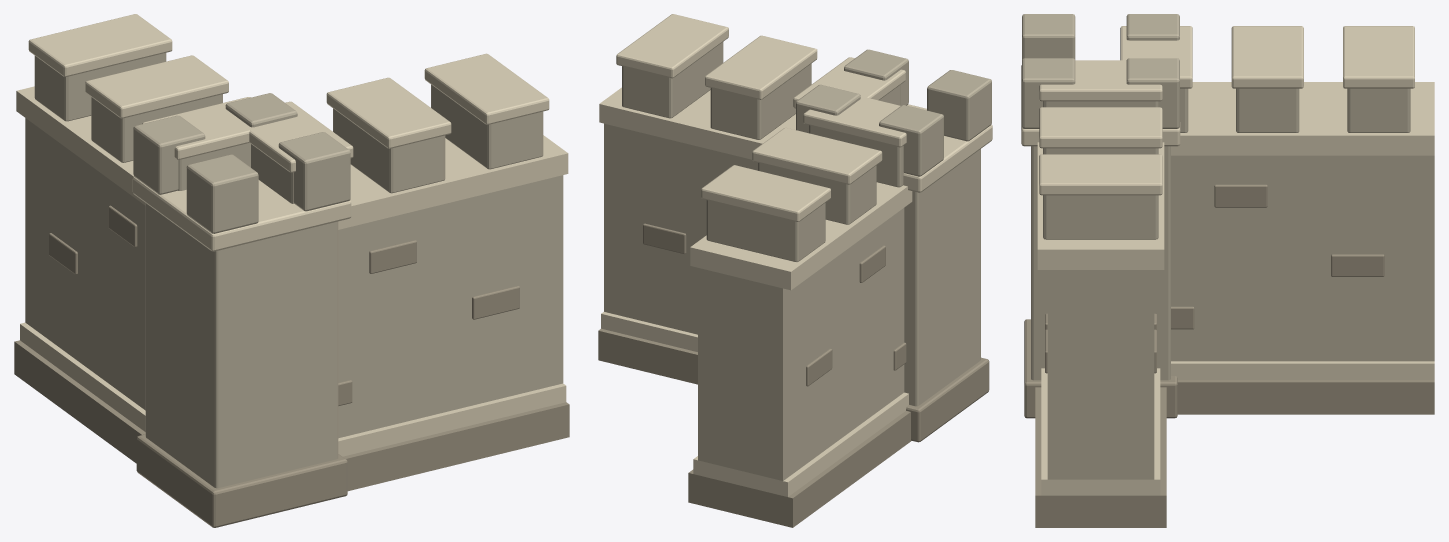
The model's file is Kingdom_Wall_Corner.fbx.
3 views of the same model, side by side, from view 1: azimuth 30°, elevation 25°; view 2: azimuth 150°, elevation 25°; view 3: azimuth 270°, elevation 25° (orthographic). The views are drawn at different scales.
Parts seen in each view (by area): view 1: Kingdom_Wall_Corner_Mesh; view 2: Kingdom_Wall_Corner_Mesh; view 3: Kingdom_Wall_Corner_Mesh.
Boxes of the visible parts, x1,y1,x2,y2 form: Kingdom_Wall_Corner_Mesh: (14, 14, 569, 527); Kingdom_Wall_Corner_Mesh: (598, 14, 992, 527); Kingdom_Wall_Corner_Mesh: (1021, 14, 1434, 527).
Bounding box in the file's own units: 3.71 × 3.38 × 3.71.
